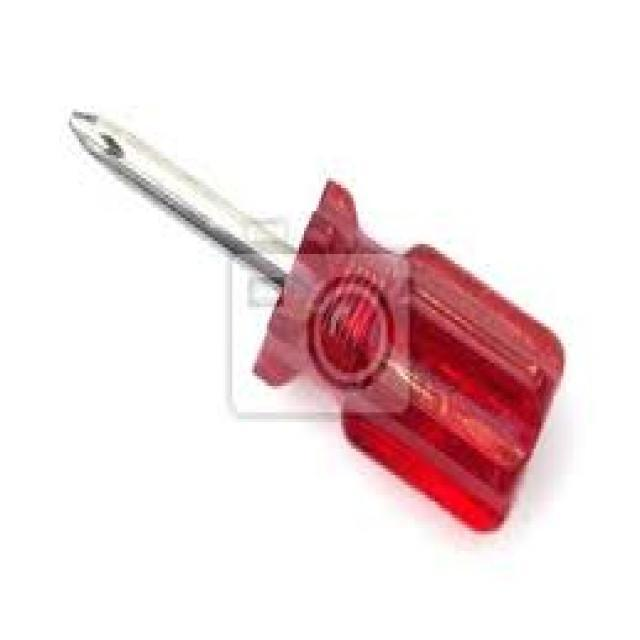screwdriver: (66, 107, 568, 530)
